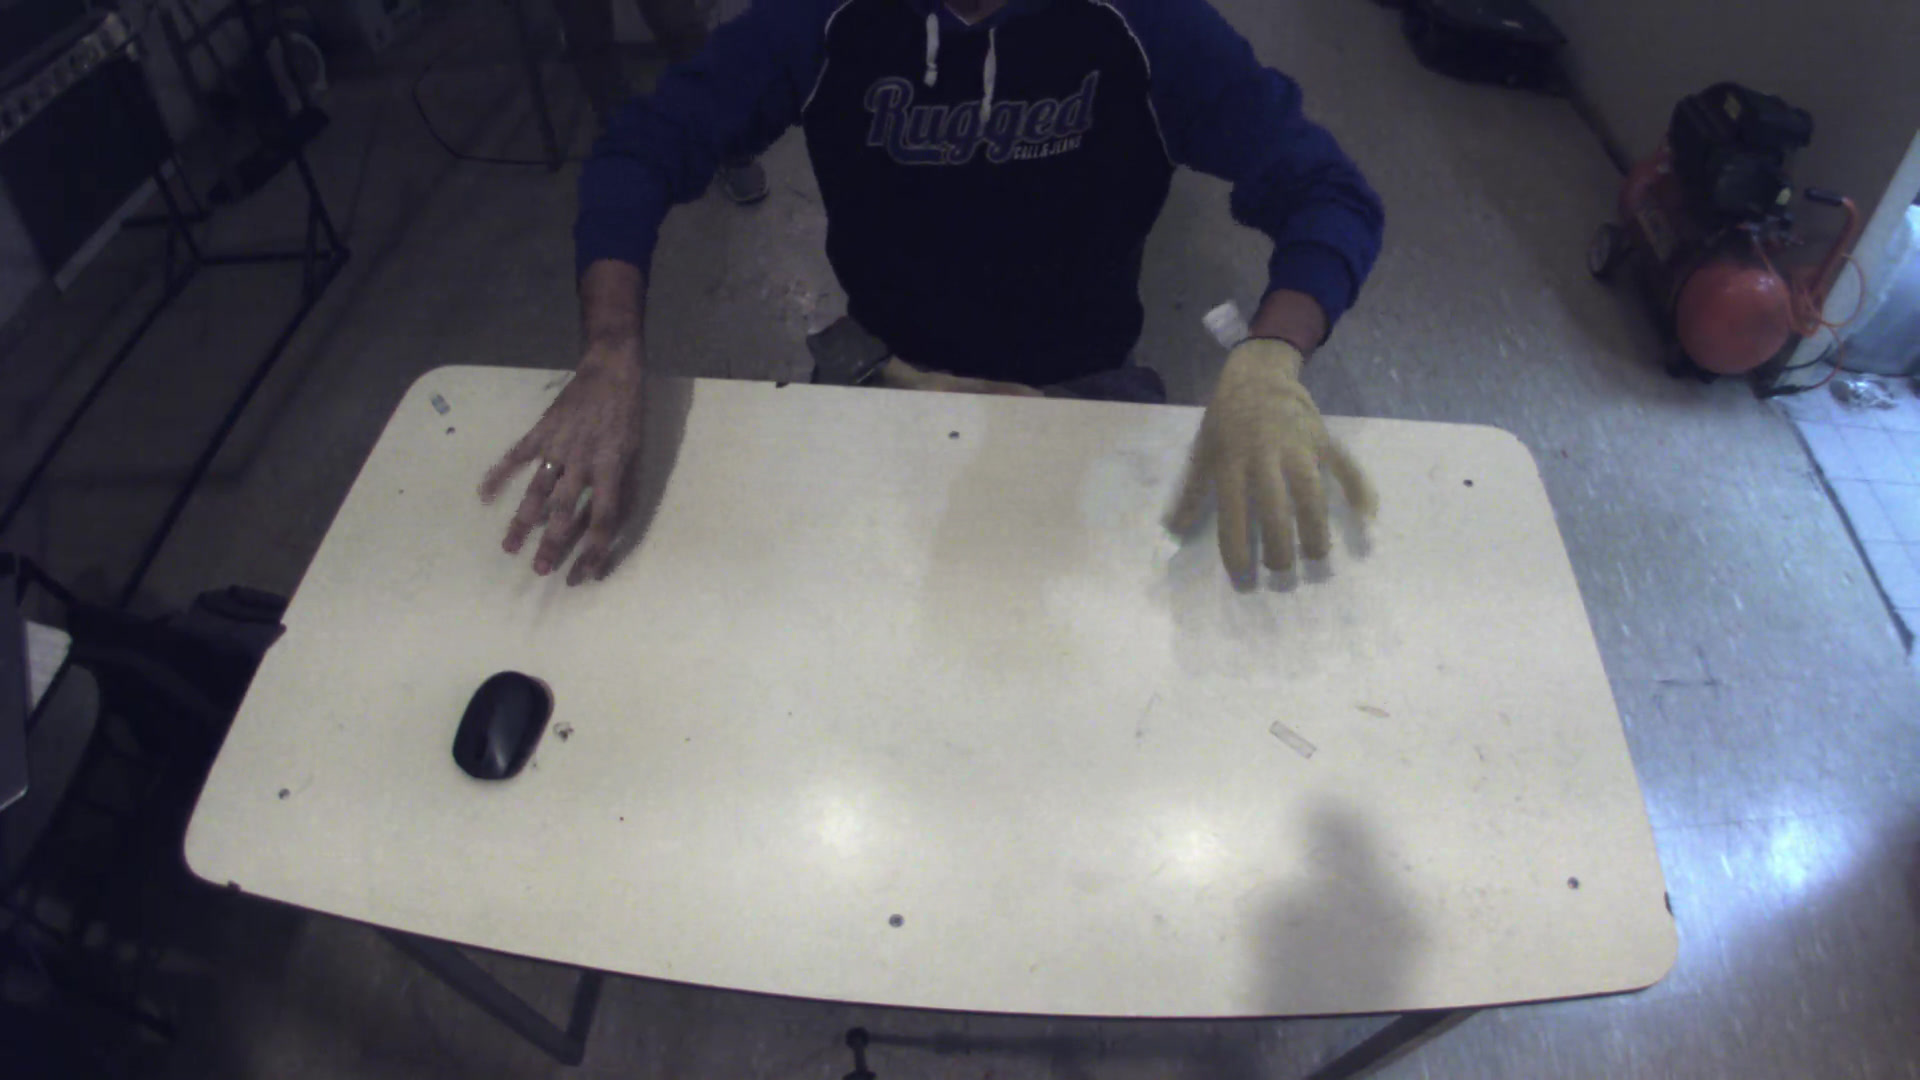hand: (1174, 334, 1389, 589), (465, 352, 659, 585)
